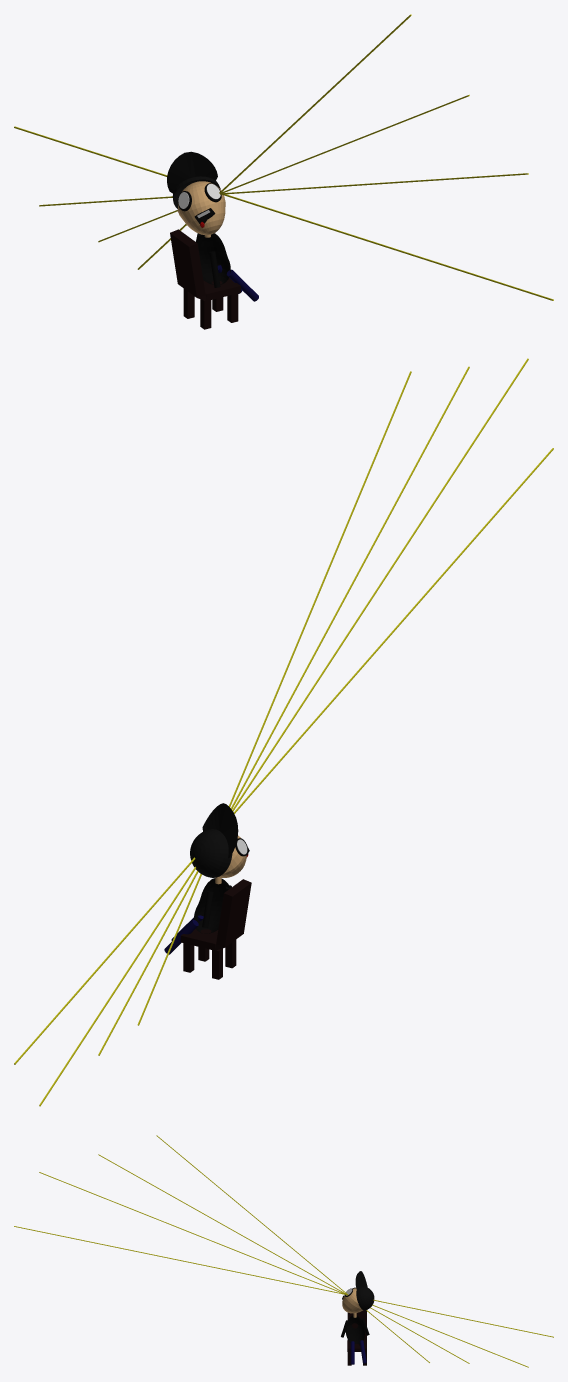
The model's file is mindblown2.obj.
The picture shows the model from 3 angles, top to bottom: view 1: azimuth 30°, elevation 25°; view 2: azimuth 150°, elevation 25°; view 3: azimuth 270°, elevation 25°; orthographic projection. The views are drawn at different scales.
Parts seen in each view (by area): view 1: Face_Sphere.001, Chair_Cube.008, Cube.003_Cube.016, Body_Sphere.002, Cube_Cube.013, Cube.002_Cube.015, Cube.001_Cube.014; view 2: Chair_Cube.008, Face_Sphere.001, Cube_Cube.013, Cube.003_Cube.016, Cube.002_Cube.015, Cube.001_Cube.014, Body_Sphere.002; view 3: Face_Sphere.001, Cube.003_Cube.016, Cube_Cube.013, Cube.002_Cube.015, Cube.001_Cube.014, Body_Sphere.002, Chair_Cube.008.
Boxes of the visible parts, x1=… form: Face_Sphere.001: x1=167, y1=151, x2=225, y2=235; Chair_Cube.008: x1=170, y1=229, x2=240, y2=329; Cube.003_Cube.016: x1=14, y1=126, x2=553, y2=300; Body_Sphere.002: x1=196, y1=233, x2=230, y2=284; Cube_Cube.013: x1=39, y1=173, x2=528, y2=206; Cube.002_Cube.015: x1=98, y1=94, x2=469, y2=242; Cube.001_Cube.014: x1=137, y1=14, x2=411, y2=269; Chair_Cube.008: x1=180, y1=879, x2=251, y2=979; Face_Sphere.001: x1=190, y1=803, x2=249, y2=877; Cube_Cube.013: x1=39, y1=358, x2=528, y2=1106; Cube.003_Cube.016: x1=14, y1=448, x2=553, y2=1064; Cube.002_Cube.015: x1=98, y1=366, x2=469, y2=1055; Cube.001_Cube.014: x1=137, y1=371, x2=411, y2=1025; Body_Sphere.002: x1=193, y1=878, x2=230, y2=933; Face_Sphere.001: x1=342, y1=1271, x2=374, y2=1313; Cube.003_Cube.016: x1=14, y1=1226, x2=553, y2=1337; Cube_Cube.013: x1=39, y1=1172, x2=528, y2=1367; Cube.002_Cube.015: x1=98, y1=1154, x2=469, y2=1363; Cube.001_Cube.014: x1=156, y1=1135, x2=429, y2=1362; Body_Sphere.002: x1=345, y1=1315, x2=364, y2=1345; Chair_Cube.008: x1=347, y1=1310, x2=366, y2=1365.
Size of what is drawn, in the model's own units: 3.07 by 17.33 by 36.51.
